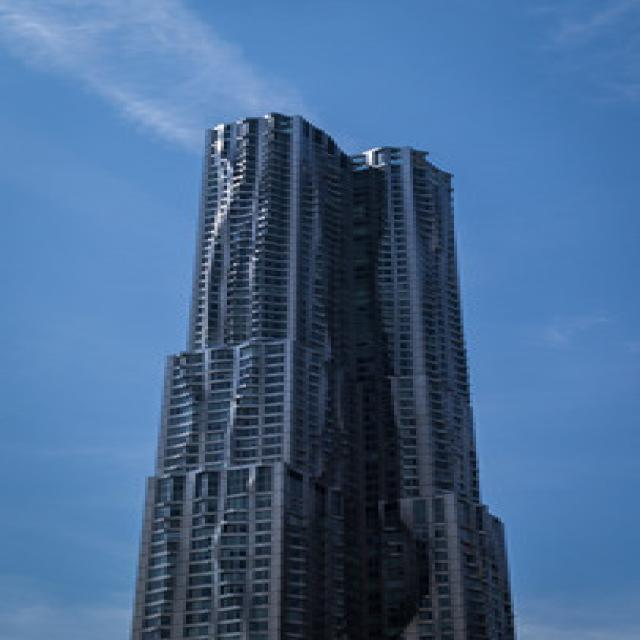building: (120, 110, 523, 636)
